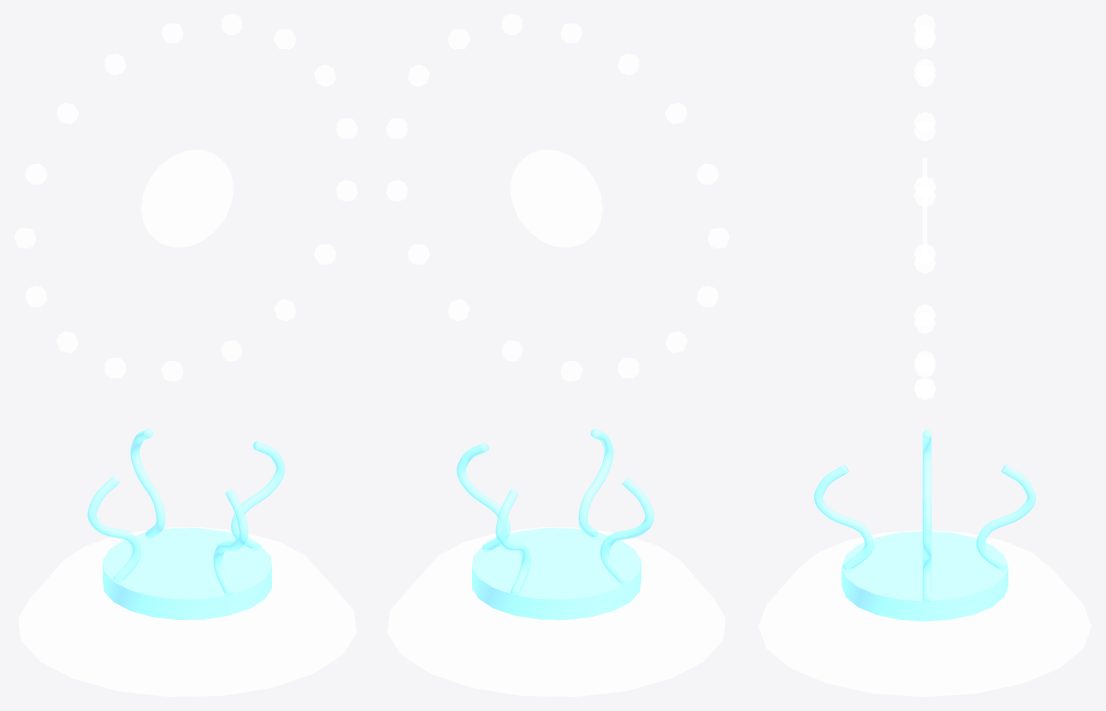
The model's file is Altars.glb.
The picture shows the model from 3 angles, left to right: view 1: azimuth 30°, elevation 25°; view 2: azimuth 150°, elevation 25°; view 3: azimuth 270°, elevation 25°; orthographic projection. The views are drawn at different scales.
Parts seen in each view (by area): view 1: Bottom, Cylinderaltar, c2, Arm1, Arm2, Arm4, Arm3; view 2: Bottom, Cylinderaltar, c2, Arm1, Arm2, Arm3, Arm4; view 3: Bottom, Cylinderaltar, Arm3, Arm4, Arm2, Arm1, c2.
Part boxes in pixels (left/top/right/bottom): Bottom: left=18, top=527, right=356, bottom=696; Cylinderaltar: left=102, top=528, right=271, bottom=619; c2: left=141, top=149, right=233, bottom=247; Arm1: left=87, top=476, right=141, bottom=583; Arm2: left=231, top=441, right=284, bottom=550; Arm4: left=130, top=428, right=165, bottom=539; Arm3: left=213, top=489, right=248, bottom=595; Bottom: left=387, top=527, right=725, bottom=696; Cylinderaltar: left=472, top=528, right=641, bottom=619; c2: left=510, top=149, right=602, bottom=247; Arm1: left=600, top=477, right=654, bottom=585; Arm2: left=456, top=442, right=510, bottom=552; Arm3: left=578, top=428, right=613, bottom=539; Arm4: left=495, top=489, right=530, bottom=595; Bottom: left=758, top=530, right=1091, bottom=696; Cylinderaltar: left=841, top=531, right=1008, bottom=621; Arm3: left=814, top=464, right=873, bottom=571; Arm4: left=976, top=464, right=1035, bottom=571; Arm2: left=922, top=498, right=931, bottom=601; Arm1: left=922, top=429, right=931, bottom=535; c2: left=922, top=157, right=927, bottom=258.
Size of the model in its own units: 1.74 by 2.95 by 1.5.
